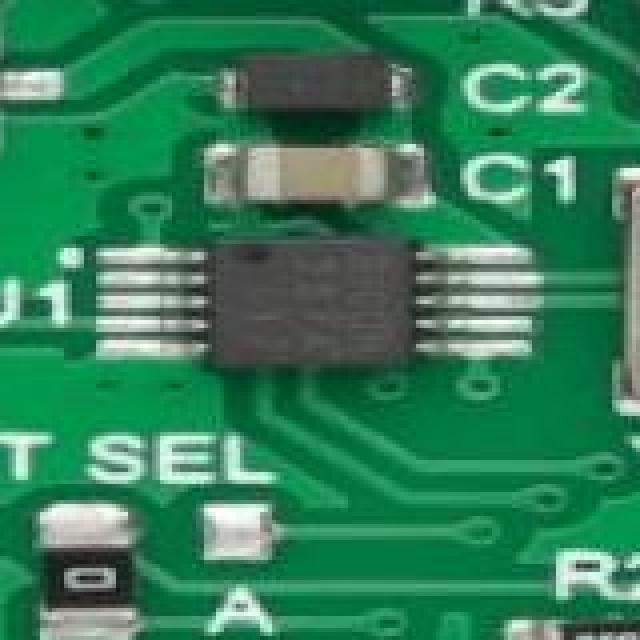IC: (124, 244, 480, 390)
capacitor: (220, 60, 436, 118), (224, 152, 434, 210)
clock: (636, 172, 640, 428)
resistor: (52, 520, 128, 640), (556, 616, 640, 640)
transistor: (0, 12, 24, 156)
